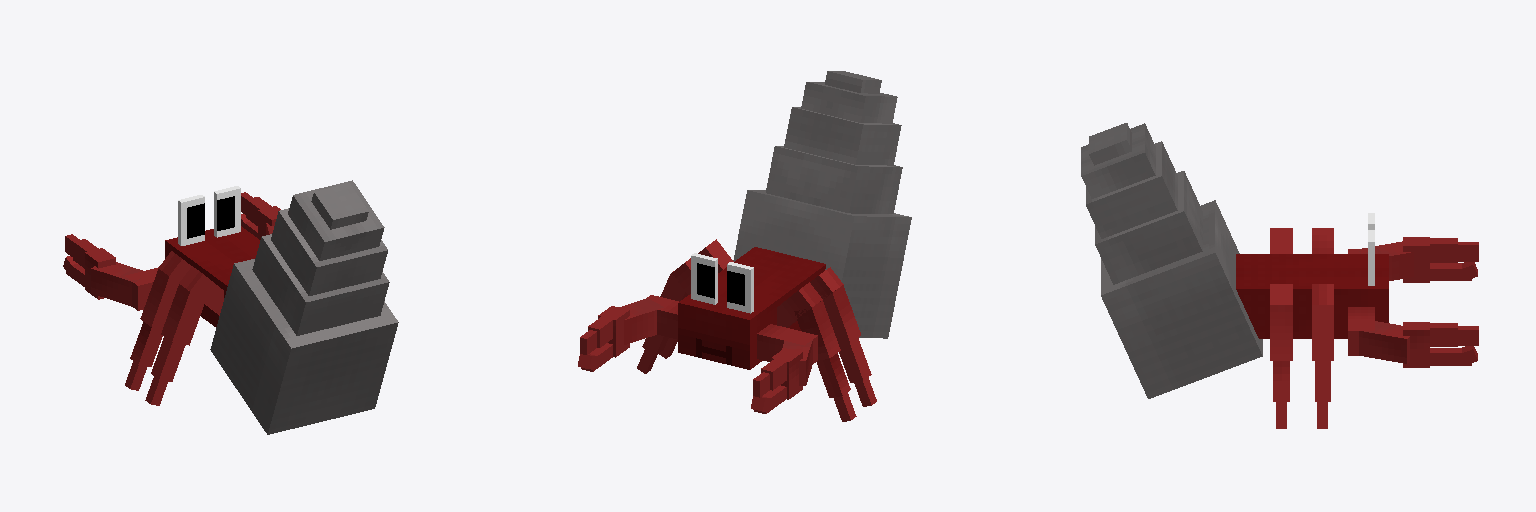
3 renders of one model, left to right at view 1: azimuth 30°, elevation 25°; view 2: azimuth 150°, elevation 25°; view 3: azimuth 270°, elevation 25°, orthographic.
Visible parts, largest first — view 1: cube; view 2: cube; view 3: cube.
Boxes of the visible parts, <box> form: cube: <box>63,180,398,434</box>; cube: <box>578,71,911,421</box>; cube: <box>1081,123,1478,428</box>.
Size of the model in its own units: 0.5614 by 0.6235 by 0.9006.
1 materials, 1 textured.